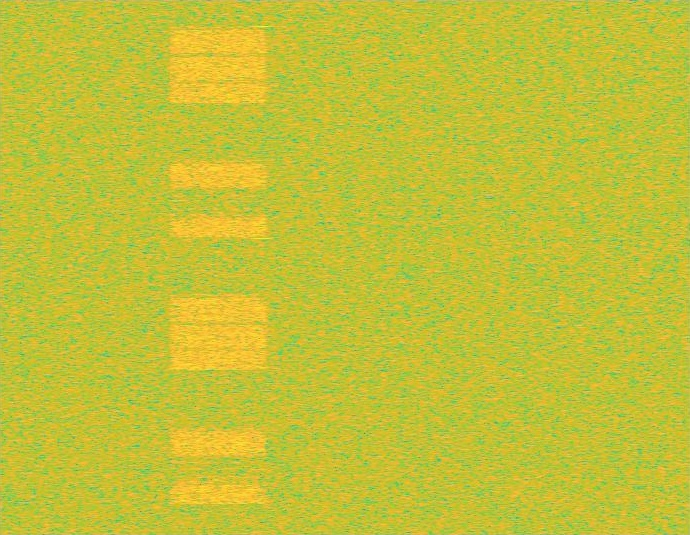LTE: (167, 0, 270, 534)
Radar: (255, 0, 268, 534)
